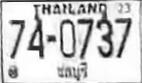0: (59, 18, 75, 57)
3: (96, 17, 113, 57)
4: (26, 18, 44, 58)
7: (114, 17, 131, 57), (8, 18, 25, 58), (77, 18, 93, 58)
CBI: (55, 62, 88, 82)
